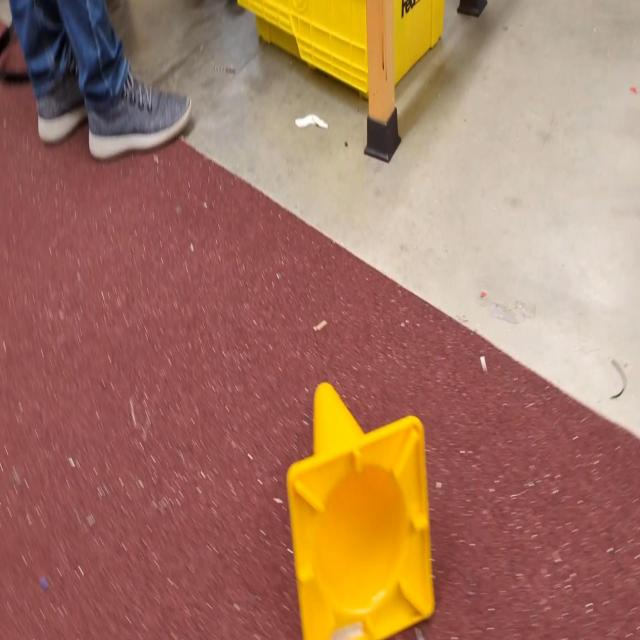frc_cone: (286, 380, 434, 640)
